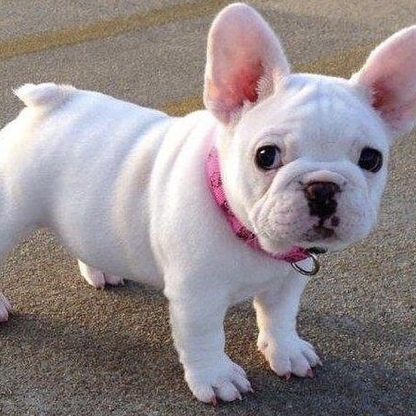bulldog: (1, 4, 416, 405)
